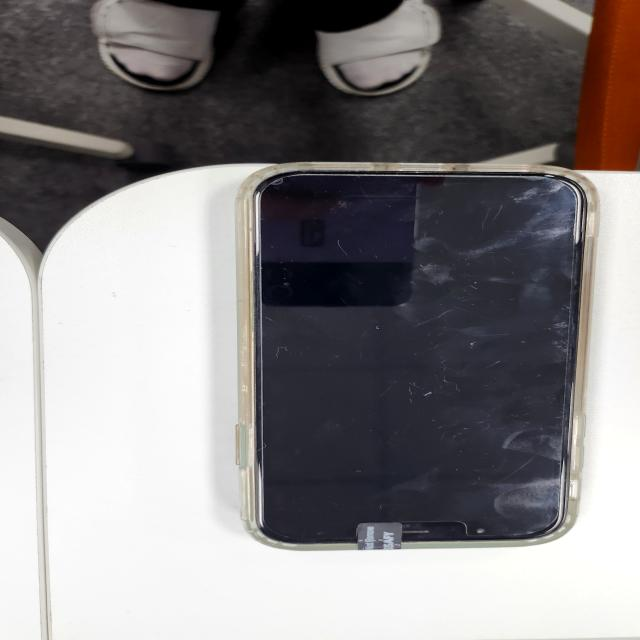phone: (235, 163, 581, 551)
sticker: (356, 521, 405, 551)
